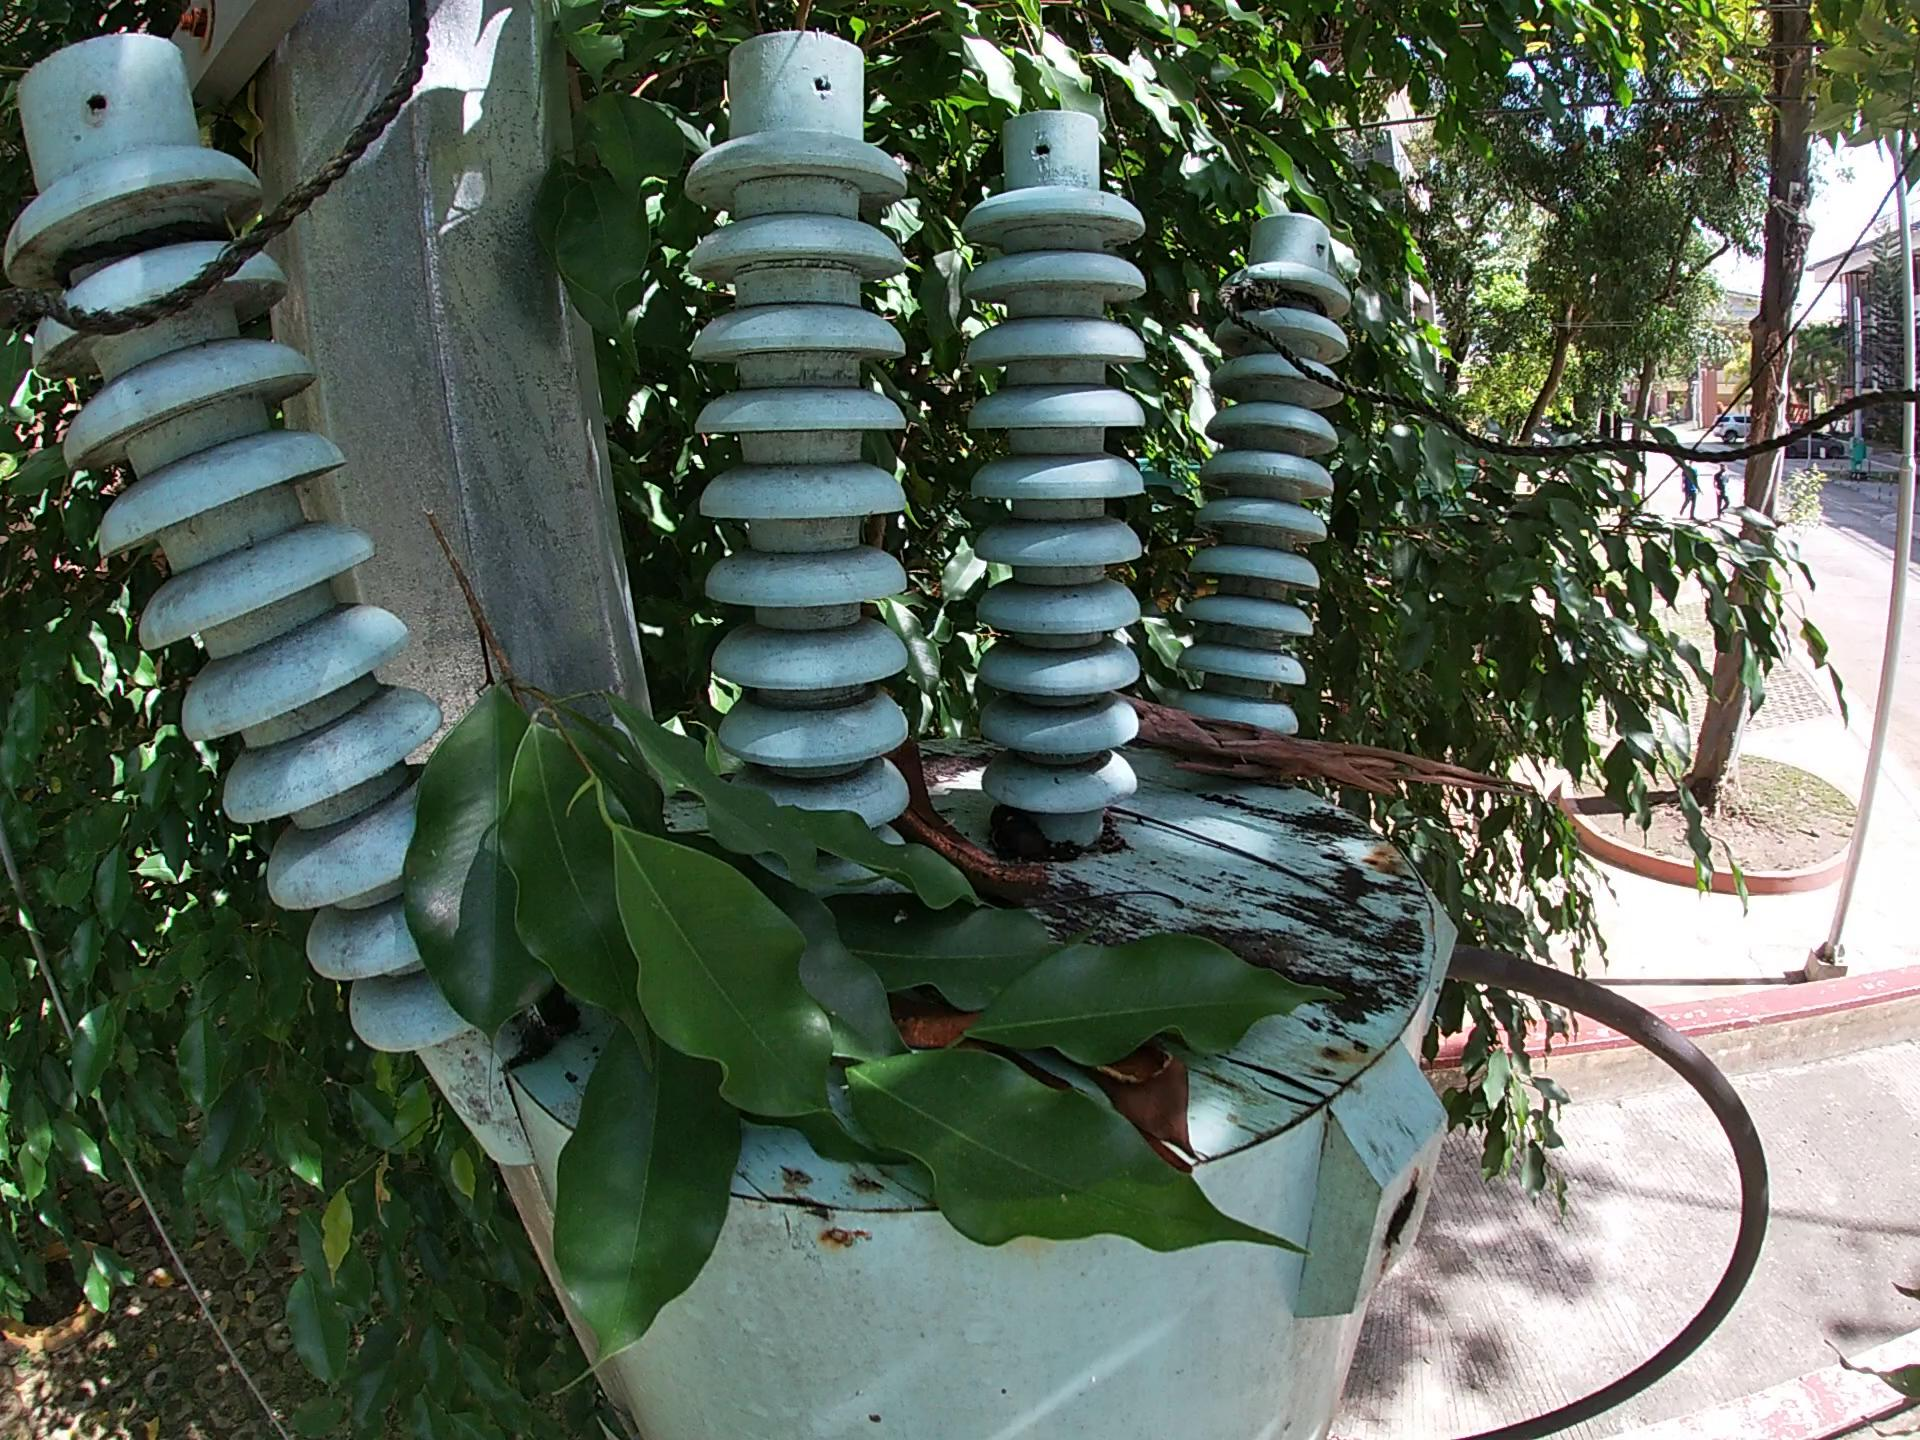branch with leaves: (379, 486, 1342, 1339)
mahogany fruit: (871, 1001, 1215, 1144), (884, 694, 1089, 895)
tree branch: (1114, 690, 1556, 817), (1093, 796, 1404, 926)
